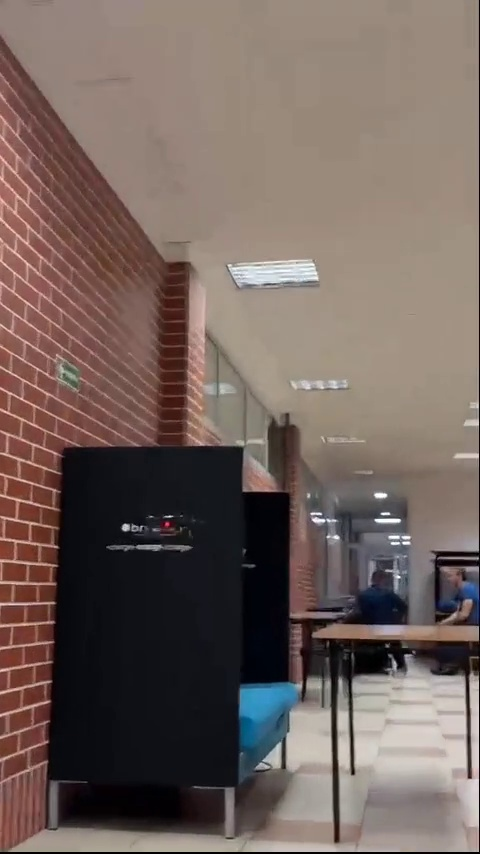drone: (153, 517, 193, 542)
no vest: (357, 567, 407, 625), (437, 564, 480, 616)
